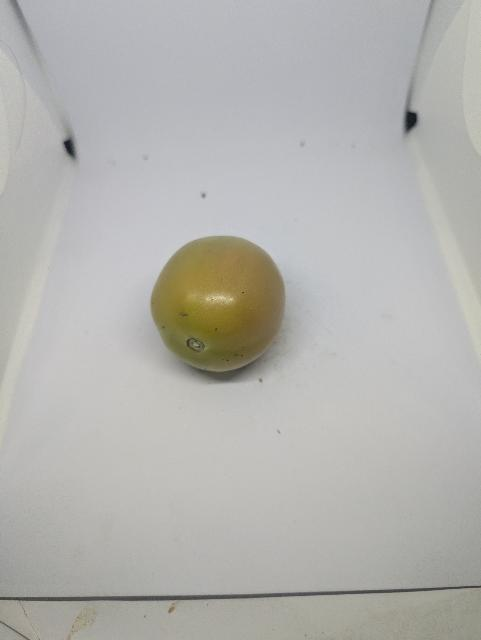breaker: (148, 232, 293, 382)
